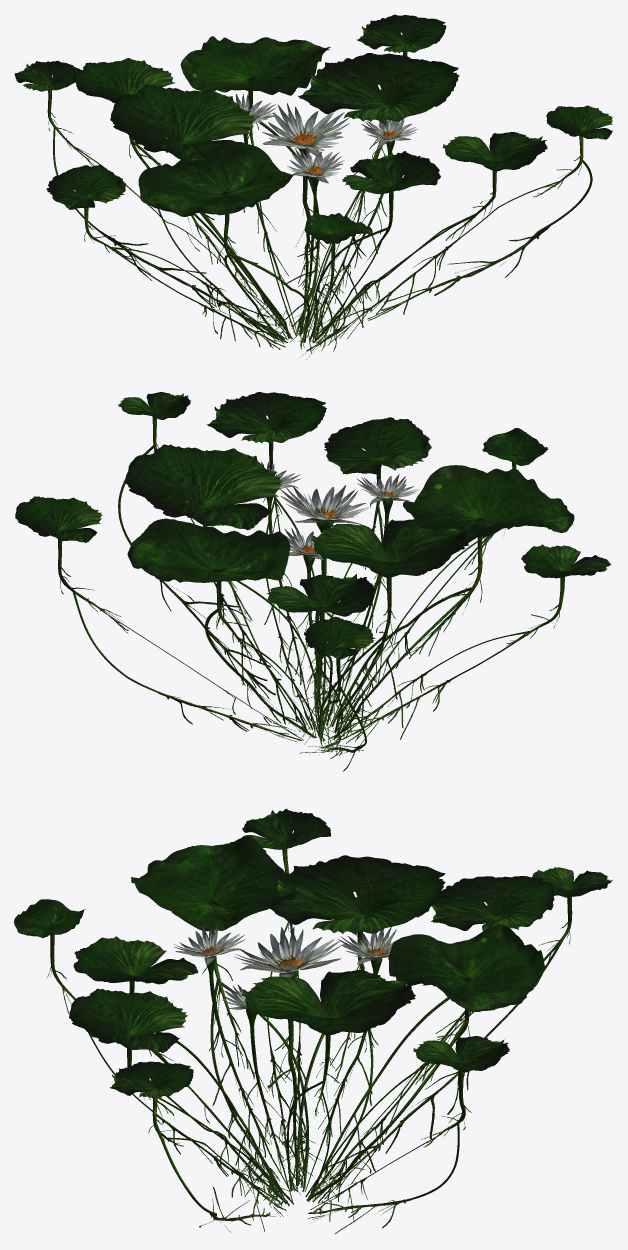
The model's file is waterLily.glb.
The picture shows the model from 3 angles, top to bottom: view 1: azimuth 30°, elevation 25°; view 2: azimuth 150°, elevation 25°; view 3: azimuth 270°, elevation 25°; orthographic projection. The views are drawn at different scales.
Parts seen in each view (by area): view 1: LOD0; view 2: LOD0; view 3: LOD0.
Part boxes in pixels (<box>): LOD0: <box>14,14,612,359</box>; LOD0: <box>15,392,610,771</box>; LOD0: <box>14,808,612,1233</box>.
Bounding box in the file's own units: 0.0617 × 0.0279 × 0.0544.
4 materials, 4 textured.
